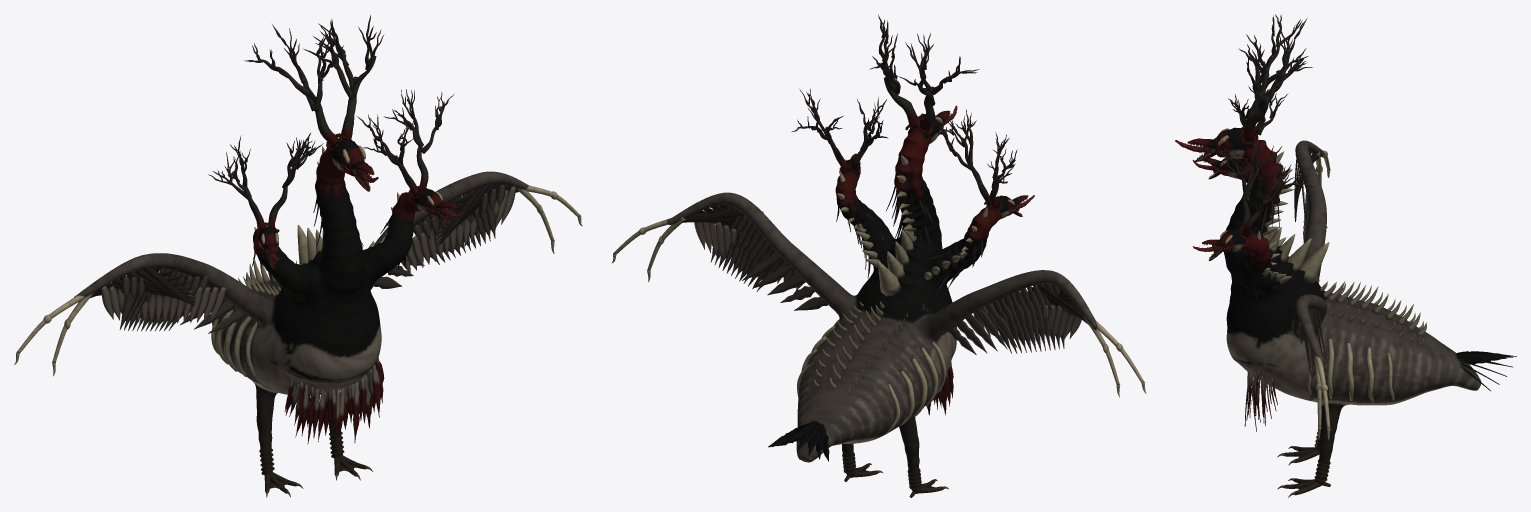
Rendered from goose_v2.fbx.
3 views of the same model, side by side, from view 1: azimuth 30°, elevation 25°; view 2: azimuth 150°, elevation 25°; view 3: azimuth 270°, elevation 25° (orthographic). The views are drawn at different scales.
Visible parts, largest first — view 1: eldritch_goose; view 2: eldritch_goose; view 3: eldritch_goose.
Boxes of the visible parts, x1=… form: eldritch_goose: x1=14, y1=15, x2=582, y2=497; eldritch_goose: x1=611, y1=14, x2=1146, y2=497; eldritch_goose: x1=1175, y1=14, x2=1516, y2=497.
Size of the model in its own units: 8.5 by 6.75 by 4.67.
1 material, 1 textured.
